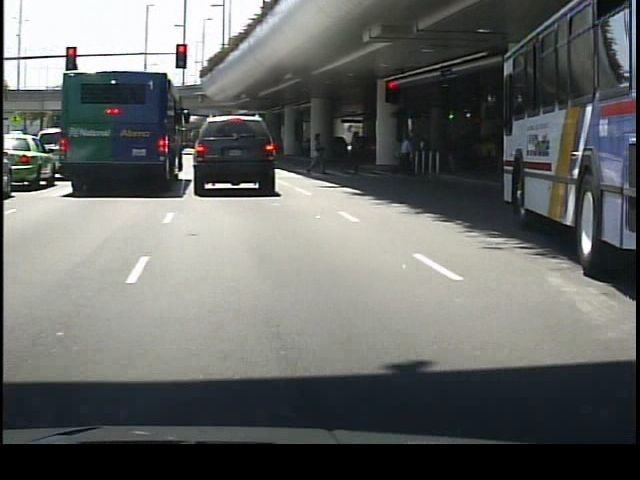person: (347, 127, 369, 182), (308, 126, 330, 175), (396, 131, 416, 175)
